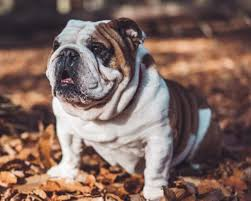Bulldog: (24, 11, 235, 201)
